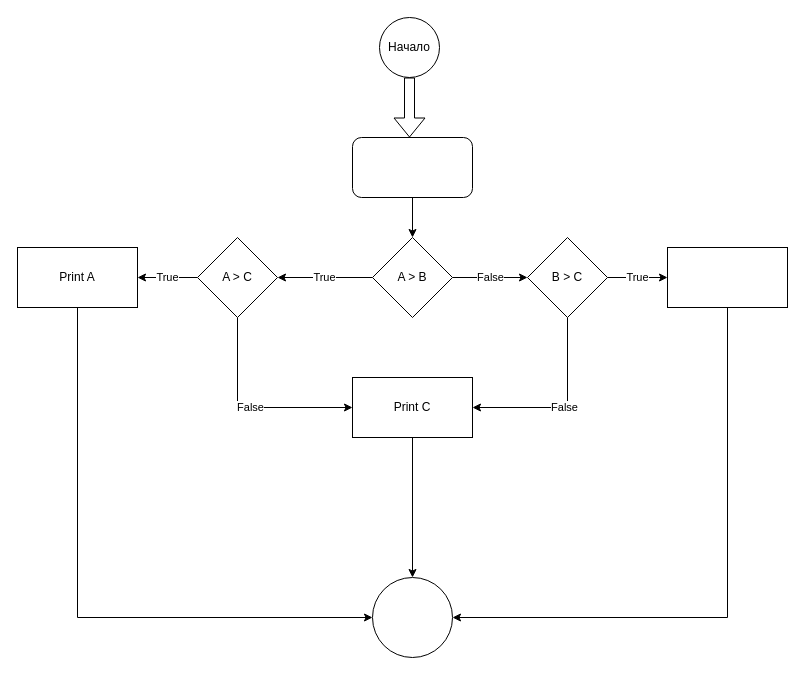
This 805x675 diagram has some shape labels left out. The shapes that lost their labels are listed below. From the top down, each one's centre as x and y in pixels, then its label:
At pixel 412 167: "Объявление A, B, C".
At pixel 727 277: "Print B".
At pixel 412 617: "Конец".
